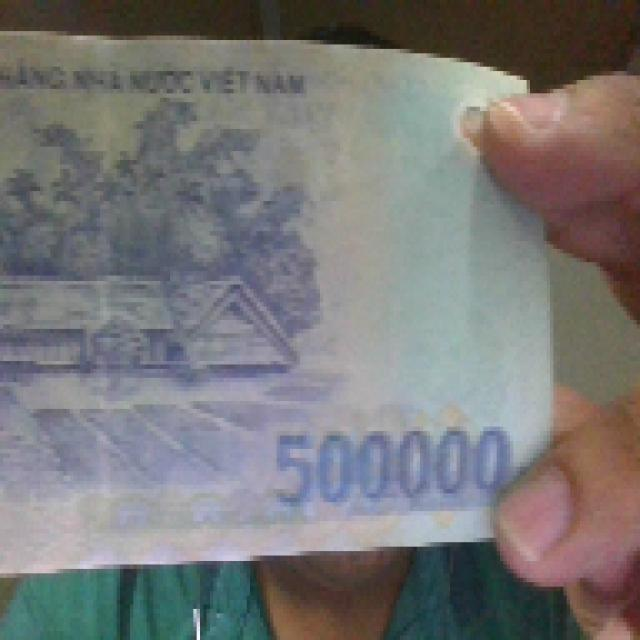500 000 VND: (0, 22, 560, 578)
